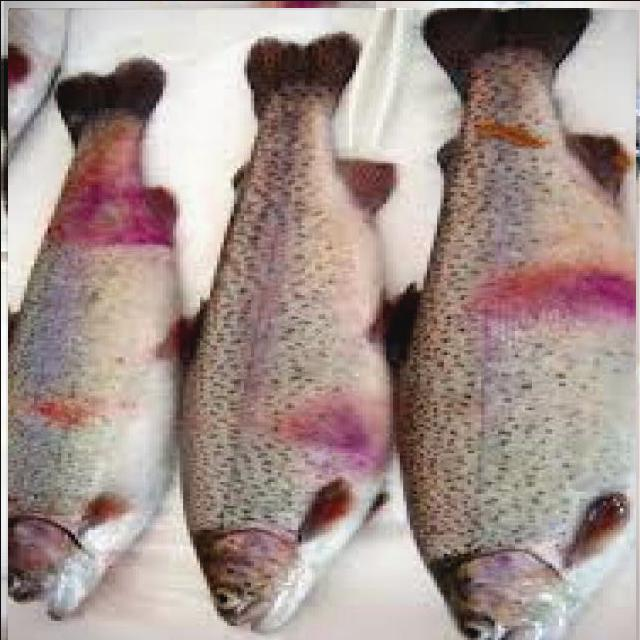EUS Disease: (5, 9, 638, 640), (212, 191, 512, 490), (2, 0, 374, 204), (159, 423, 407, 640), (516, 99, 614, 196)
